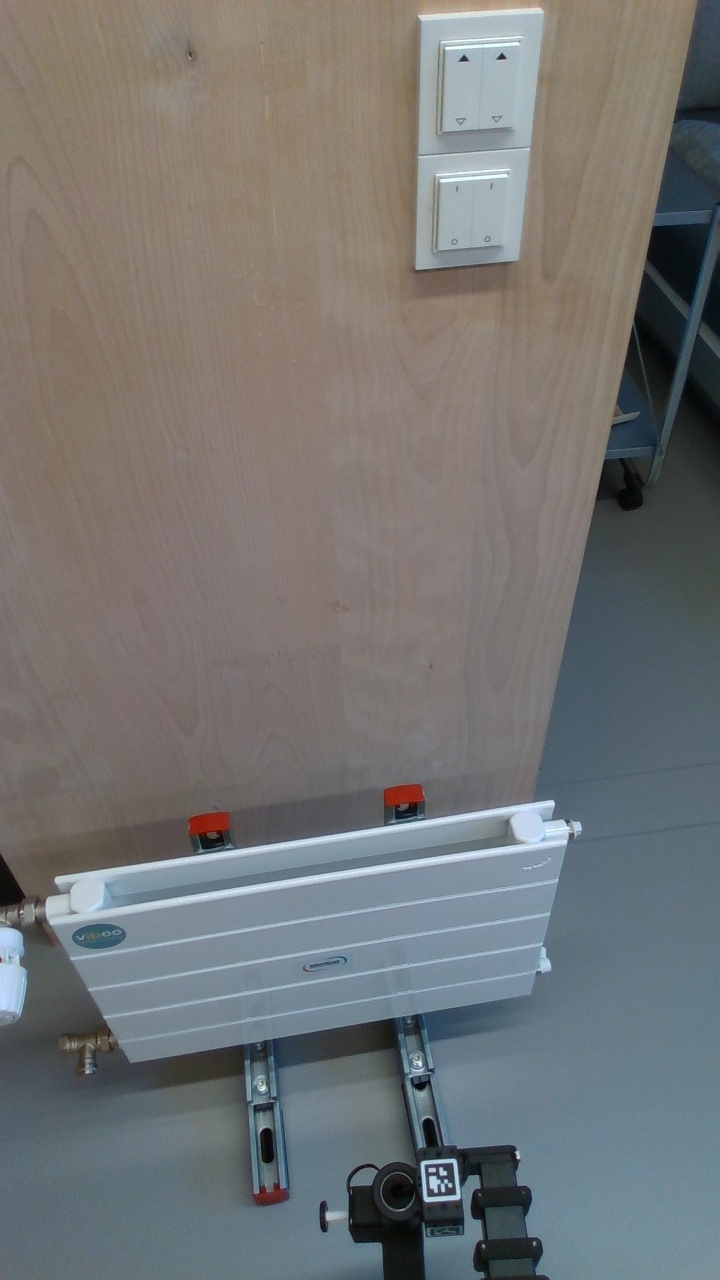Light_Switch: (423, 24, 533, 141), (424, 160, 524, 266)
Radiator: (46, 790, 581, 1075)
